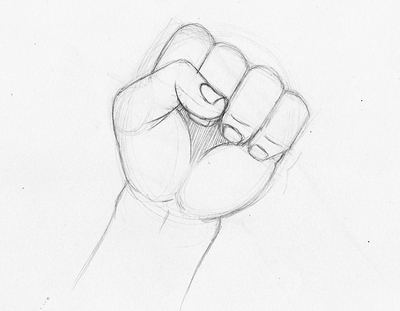closedhandfront: (113, 8, 314, 228)
